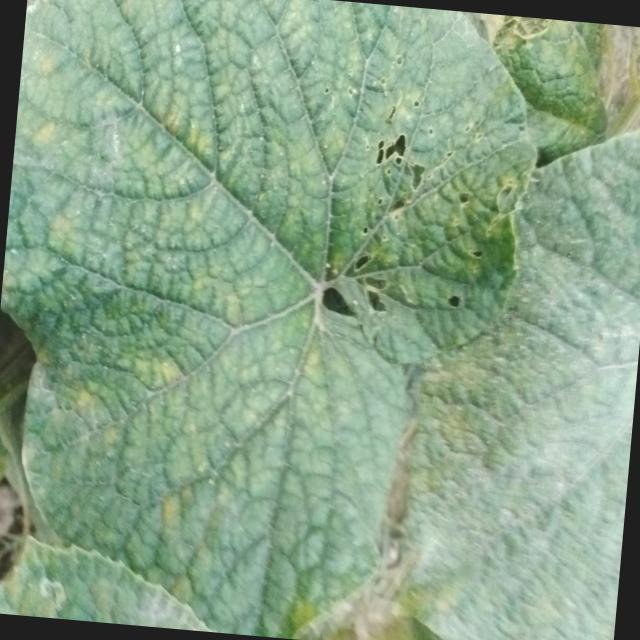cucumber_downy: (0, 0, 516, 606), (397, 113, 640, 640), (0, 530, 213, 631)
